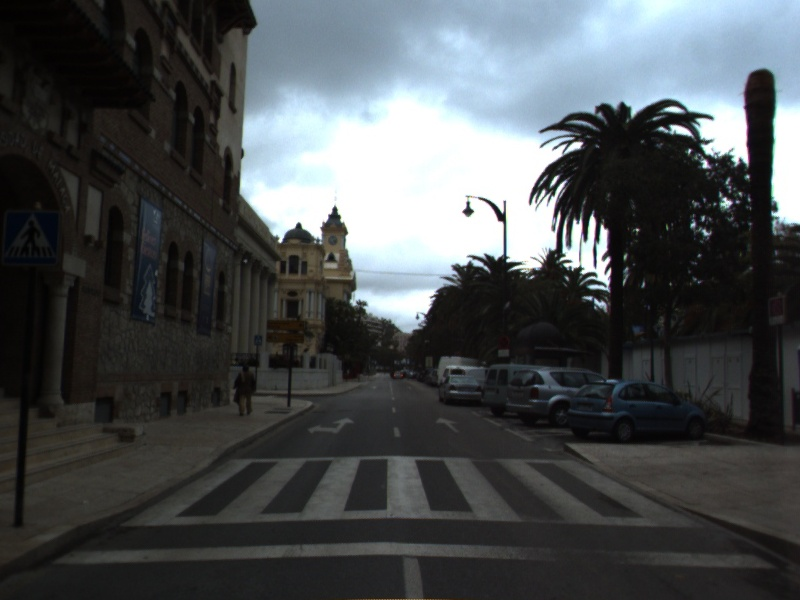STRAIGHT: (433, 415, 462, 435)
STRAIGHT_LEFT: (305, 415, 356, 436)
